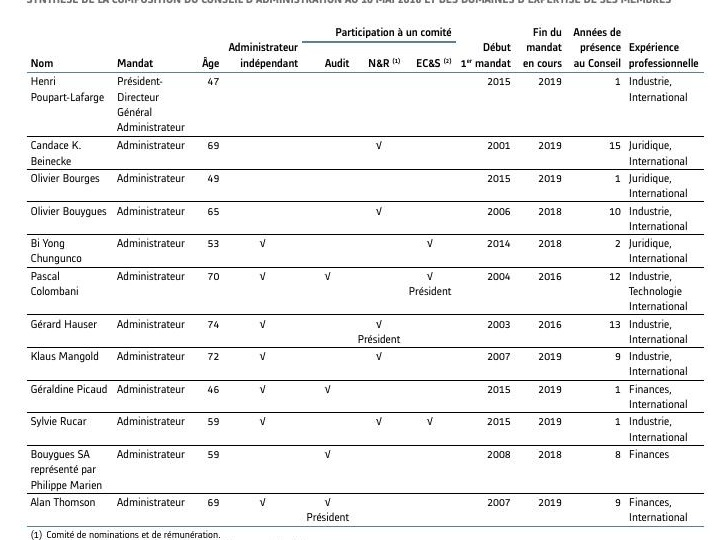table: (0, 0, 726, 540)
